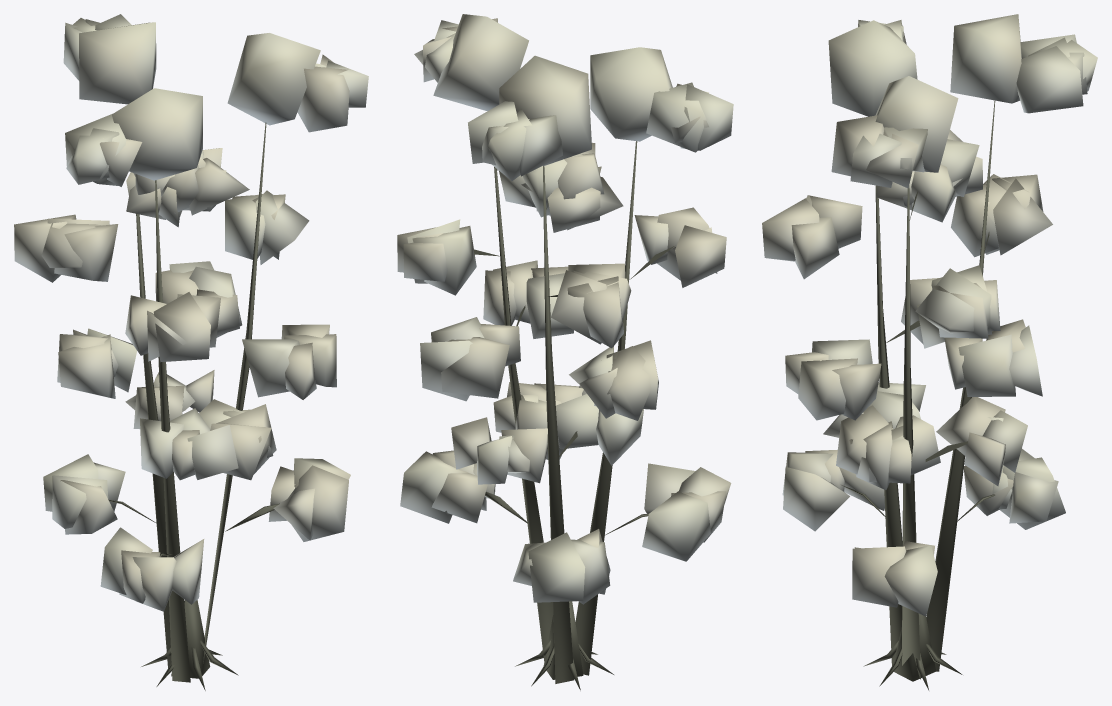
3 renders of one model, left to right at view 1: azimuth 30°, elevation 25°; view 2: azimuth 150°, elevation 25°; view 3: azimuth 270°, elevation 25°, orthographic. The views are drawn at different scales.
Parts seen in each view (by area): view 1: crown, trunk; view 2: crown, trunk; view 3: crown, trunk.
Boxes of the visible parts, box(x1,y1,x2,y2) form: crown: box(14, 14, 368, 611); trunk: box(108, 122, 279, 690); crown: box(397, 14, 733, 604); trunk: box(473, 141, 674, 690); crown: box(762, 14, 1097, 616); trunk: box(841, 100, 995, 690).
Bounding box in the file's own units: 5.93 × 12.14 × 5.75.
